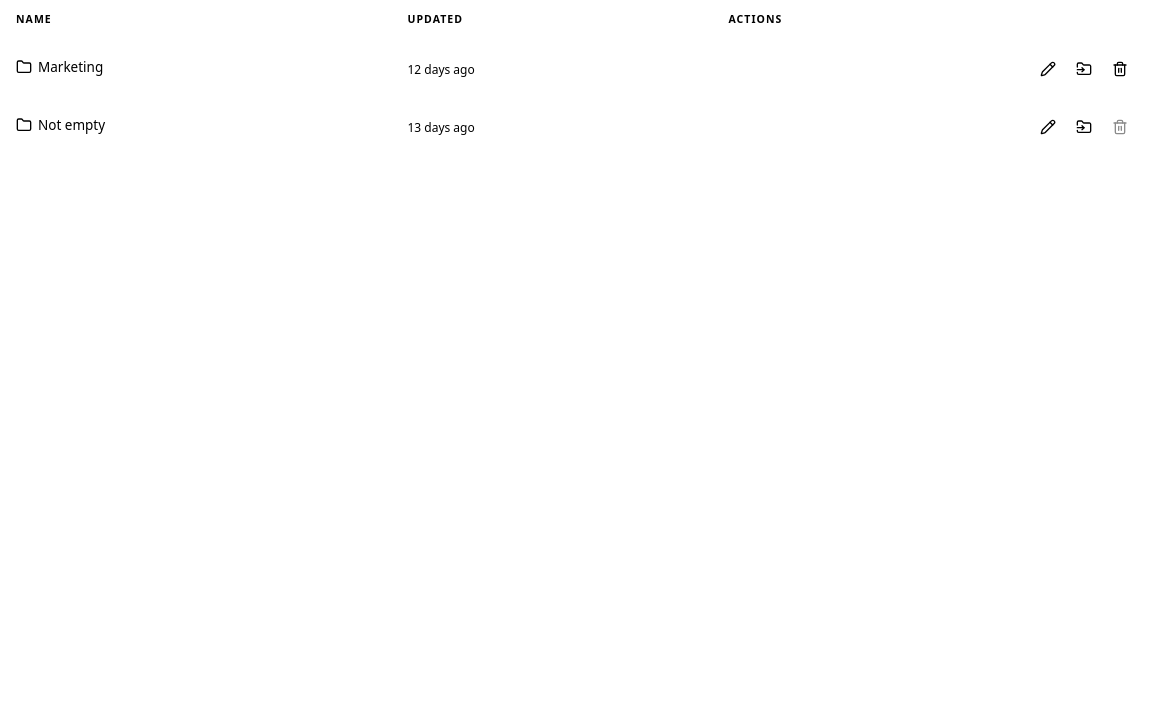
Test: FilesTable - folders › shows an inline error and does not refresh when deleting a folder fails
Click the button named "Delete" in the row of "Marketing".
click(1120, 69)  # box top-left (1104, 53), bottom-right (1136, 85)
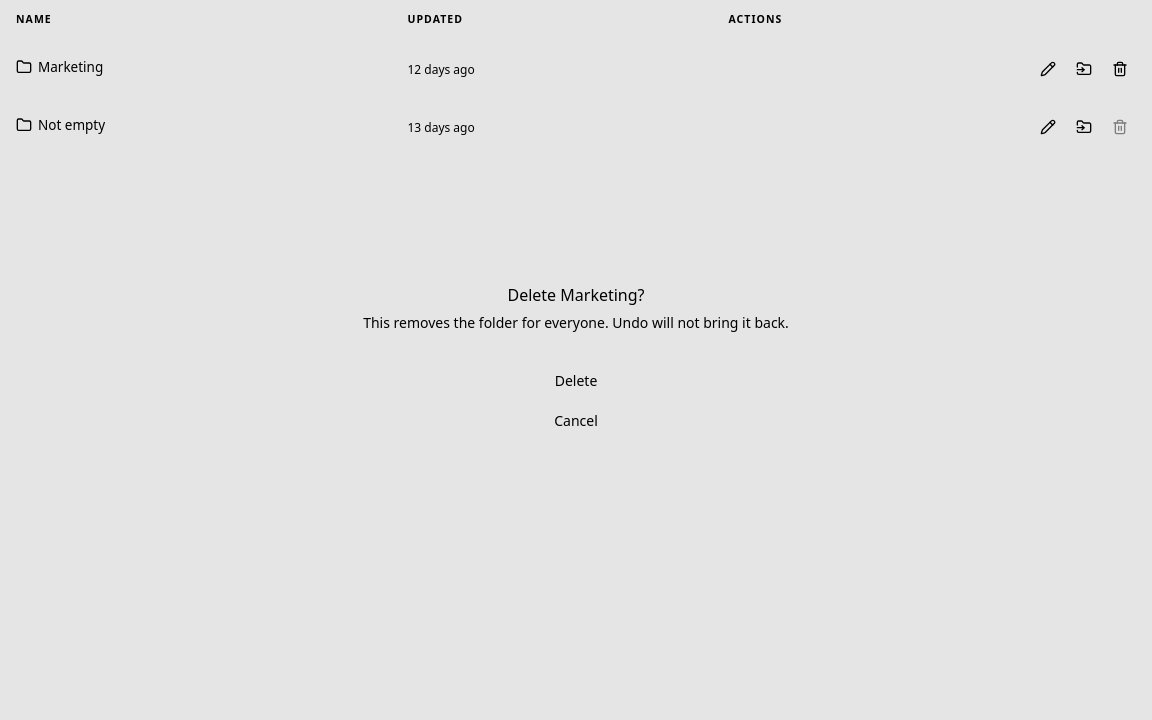
Click the button "Delete".
click(576, 381)  # box top-left (16, 365), bottom-right (1136, 397)
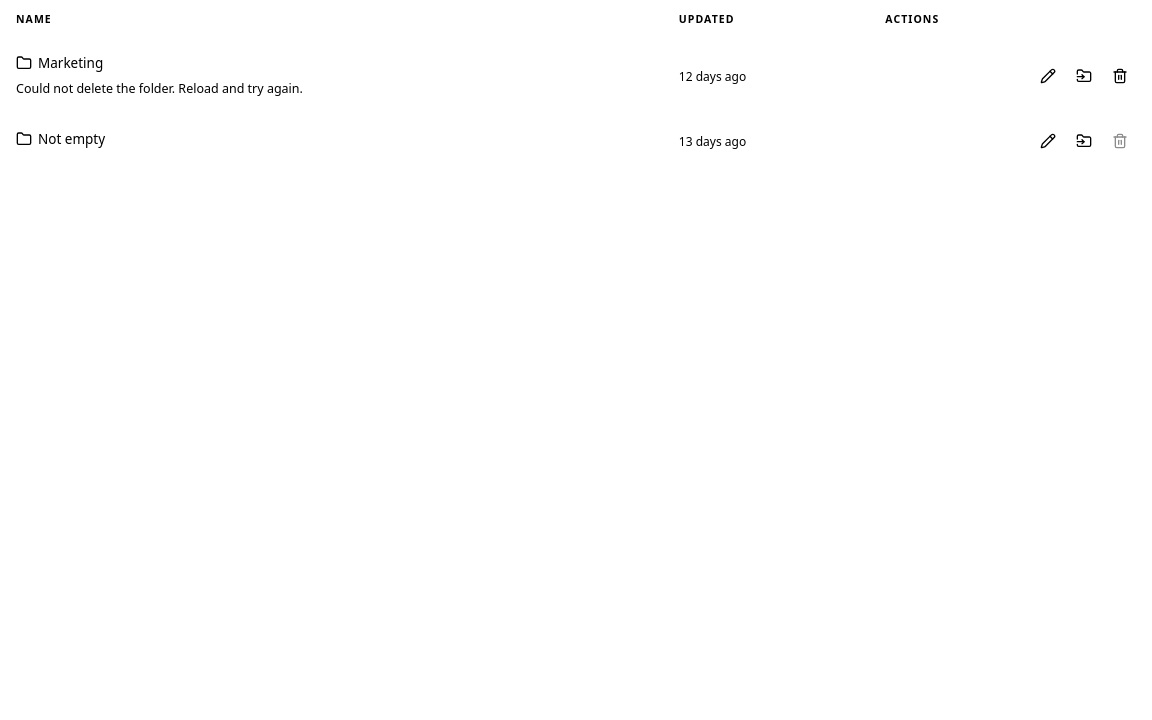
Result: the message reads "Could not delete the folder. Reload and try again." at top-left (16, 80), bottom-right (303, 97)
